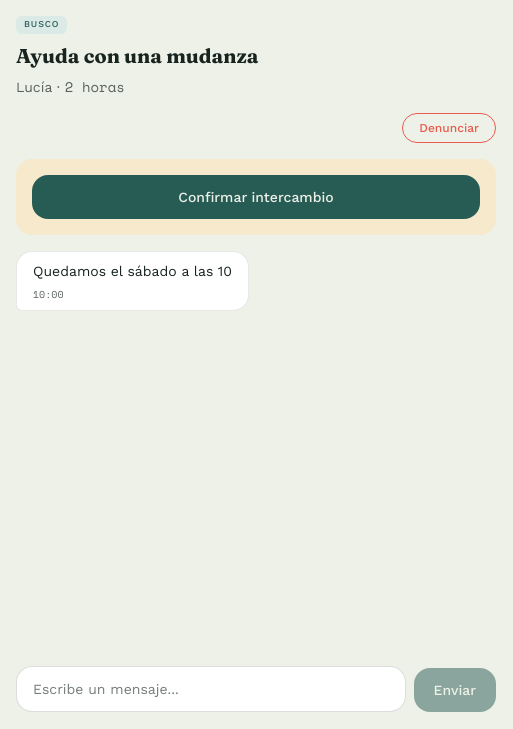
Test: Chat abierto o en solo lectura según el estado del intercambio › si el envío falla por otra causa, avisa y conserva el texto
The image size is (513, 729).
Type "Mensaje que no llega" into the text box labelled "Escribe un mensaje..." at (211, 689), box [16,666,406,712]
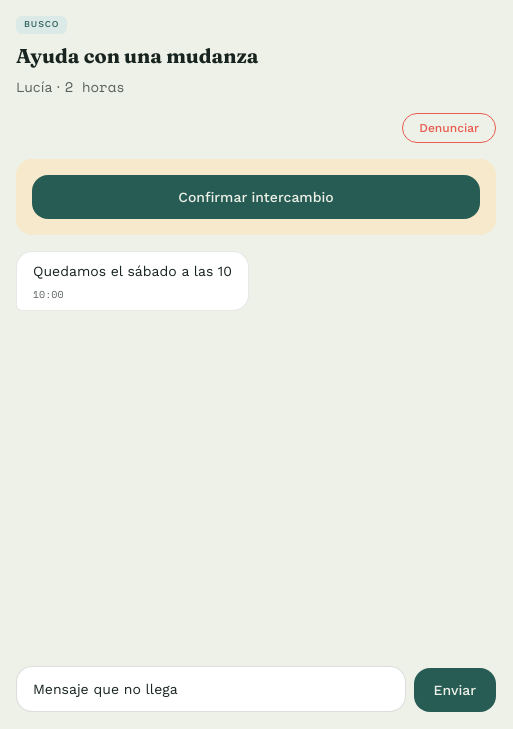
Click the button "Enviar" at (455, 690), box [414,668,496,712]
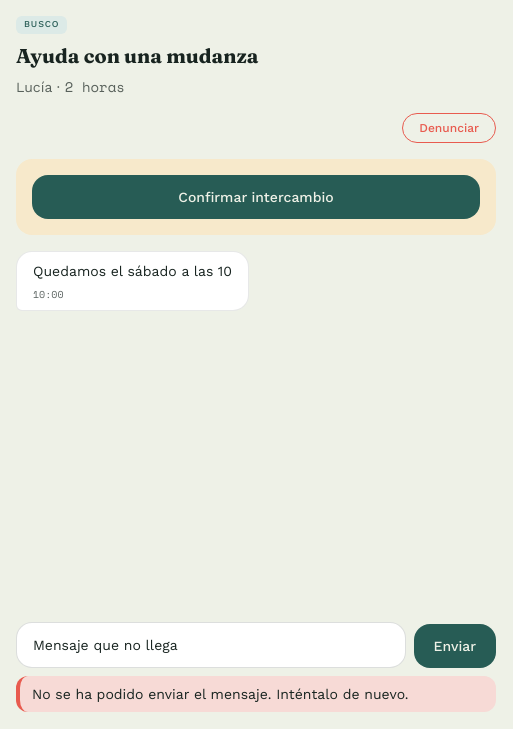
Expected: the message shows "No se ha podido enviar", [32,686,409,702]
